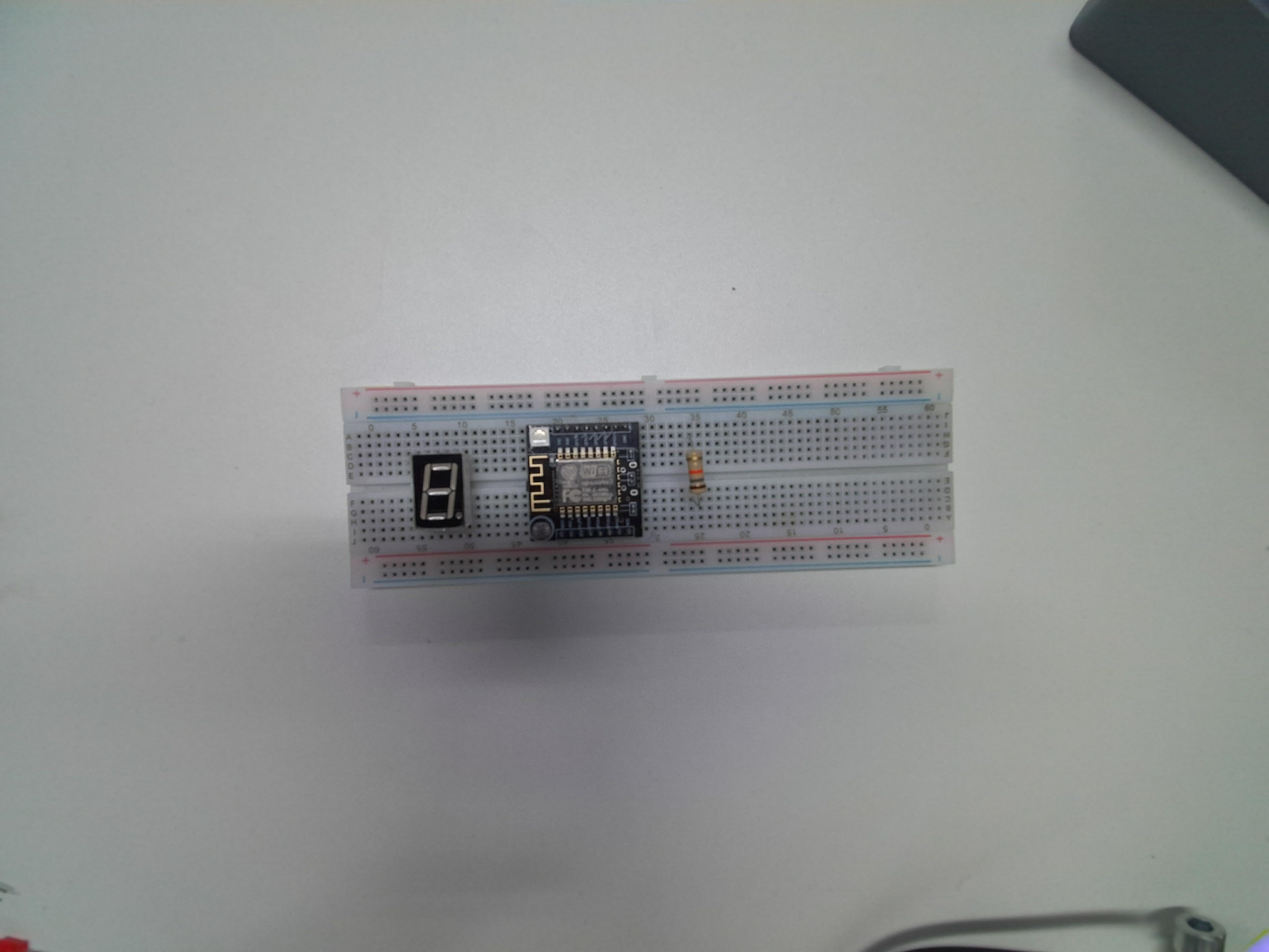base: (341, 366, 958, 589)
digit-board: (410, 451, 473, 531)
esp: (524, 421, 644, 544)
resistor-big: (684, 447, 711, 501)
